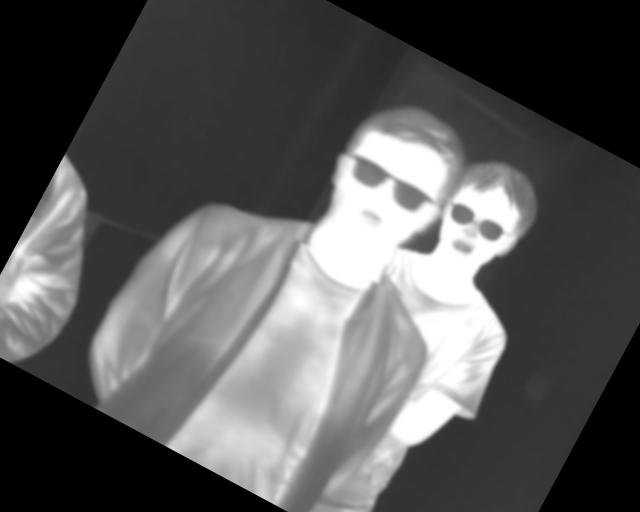face: (301, 80, 480, 280), (423, 144, 554, 289)
